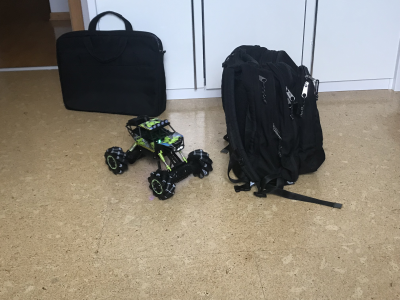remote control car: (104, 113, 215, 203)
